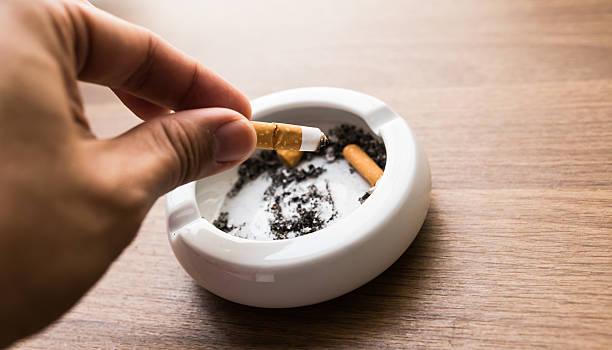cigarette: (243, 117, 330, 152), (340, 143, 383, 189), (276, 150, 305, 169)
